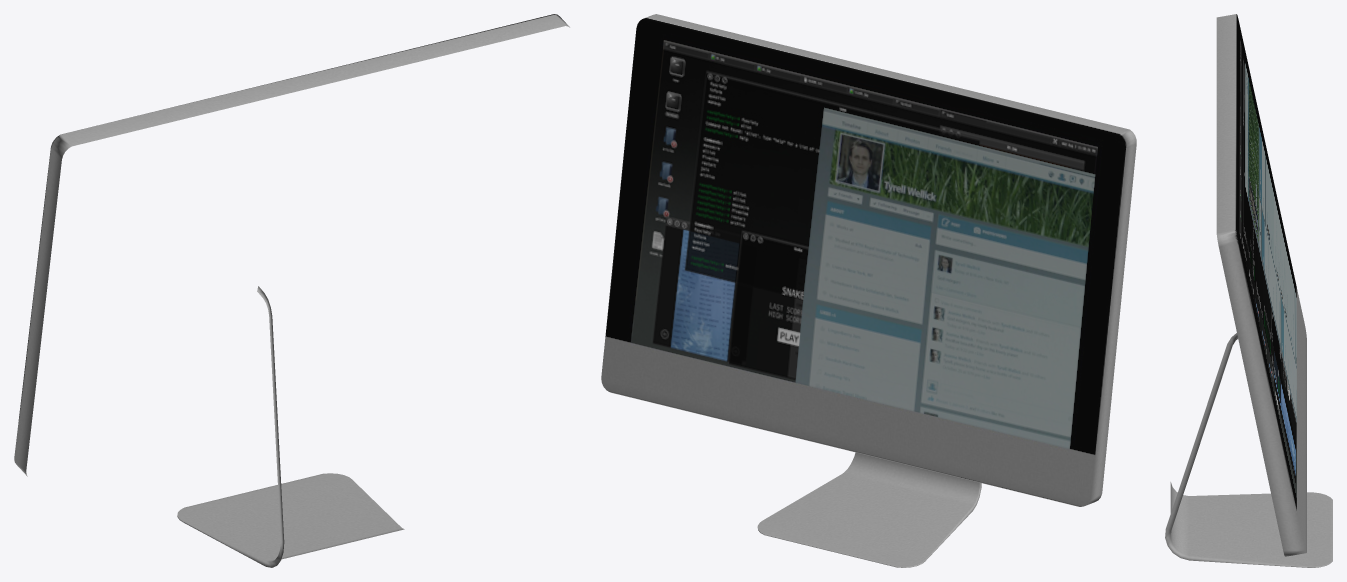
The model's file is mac_maya2gltf_2.gltf.
The picture shows the model from 3 angles, left to right: view 1: azimuth 30°, elevation 25°; view 2: azimuth 150°, elevation 25°; view 3: azimuth 270°, elevation 25°; orthographic projection. The views are drawn at different scales.
Visible parts, largest first — view 1: mac:mac_air:PIV; view 2: mac:mac_air:PIV; view 3: mac:mac_air:PIV.
Boxes of the visible parts, x1,y1,x2,y2 form: mac:mac_air:PIV: [14, 14, 569, 567]; mac:mac_air:PIV: [601, 14, 1136, 567]; mac:mac_air:PIV: [1165, 14, 1332, 567].
Bounding box in the file's own units: 0.6498 × 0.5552 × 0.2065.
1 material, 1 textured.
